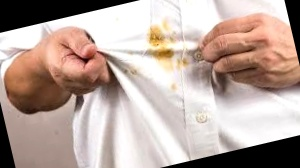oil: (137, 10, 191, 75), (119, 50, 143, 80), (167, 79, 183, 92), (111, 16, 124, 28)
